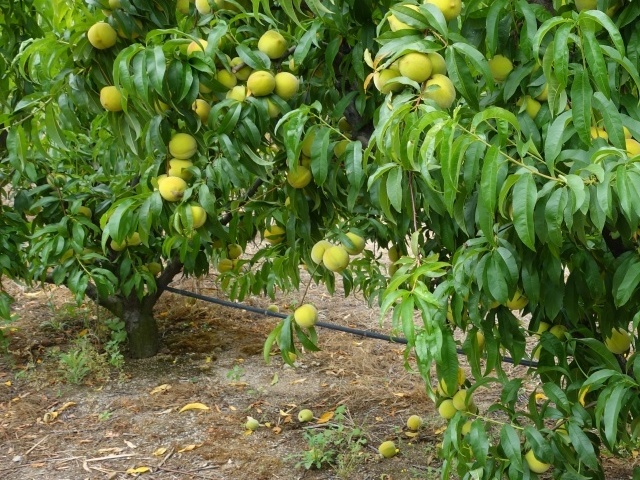peach: (422, 72, 461, 111), (382, 2, 425, 37), (396, 49, 435, 86), (80, 18, 118, 51), (96, 83, 131, 118), (165, 130, 201, 164), (253, 28, 293, 58), (484, 53, 518, 86), (152, 175, 189, 205), (243, 69, 276, 101), (372, 63, 404, 96), (521, 444, 555, 475), (269, 69, 304, 98), (422, 1, 465, 24), (162, 154, 199, 180), (425, 47, 457, 77), (284, 163, 314, 193), (290, 302, 320, 332), (604, 324, 635, 353), (323, 247, 355, 275), (181, 34, 214, 61), (309, 236, 337, 264), (502, 286, 530, 314), (341, 229, 371, 254), (520, 92, 545, 122), (189, 96, 215, 123), (224, 82, 252, 105), (263, 223, 291, 245), (213, 69, 239, 92), (449, 388, 474, 411), (186, 203, 208, 229), (433, 376, 457, 399), (621, 134, 640, 161), (546, 321, 569, 343), (436, 398, 457, 420), (222, 242, 246, 261), (228, 58, 252, 76), (214, 257, 235, 275), (123, 231, 141, 249)
